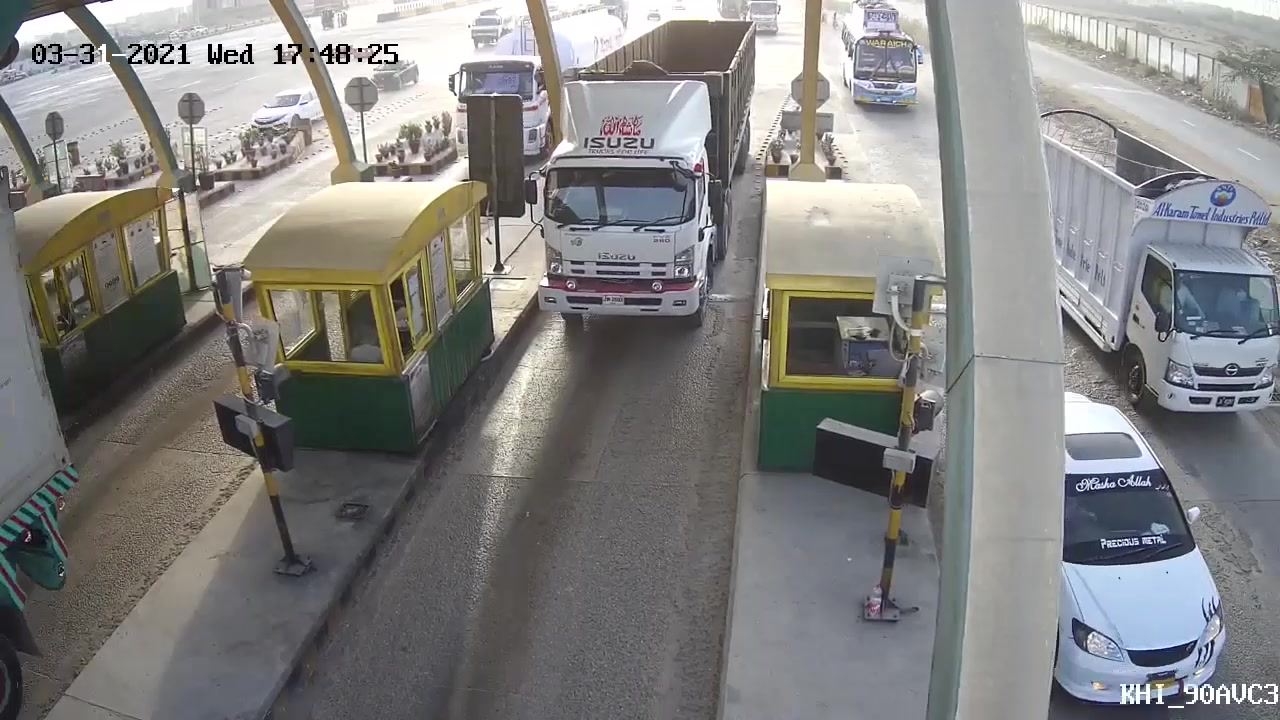F6: (529, 16, 762, 331)
